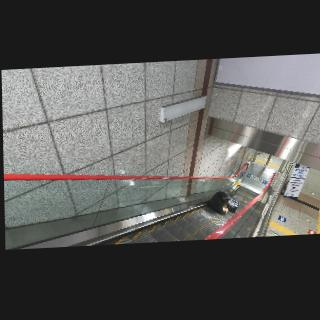anomaly: (208, 188, 232, 217)
